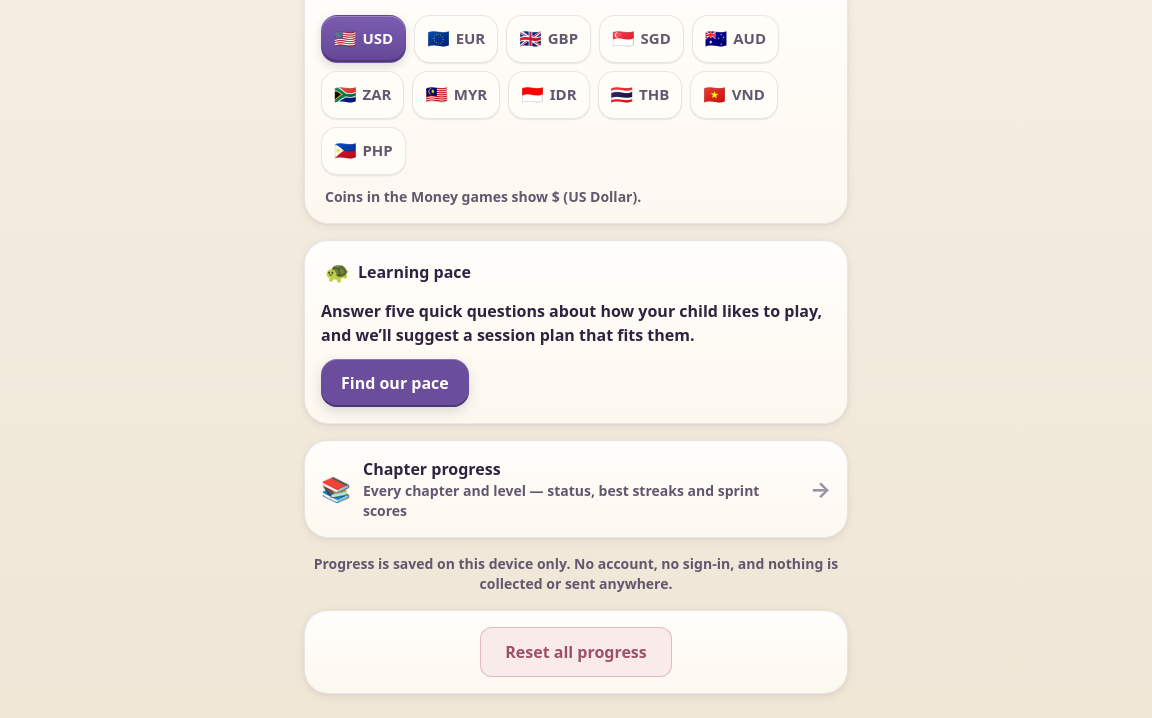
Test case: ParentView › cancel backs out of the gate without resetting
(page scrolled)
What coordinates should you click on to do the following:
click the button "Reset all progress"
I would click on:
 (576, 652)
Its box is top-left (480, 626), bottom-right (672, 676).
(page scrolled)
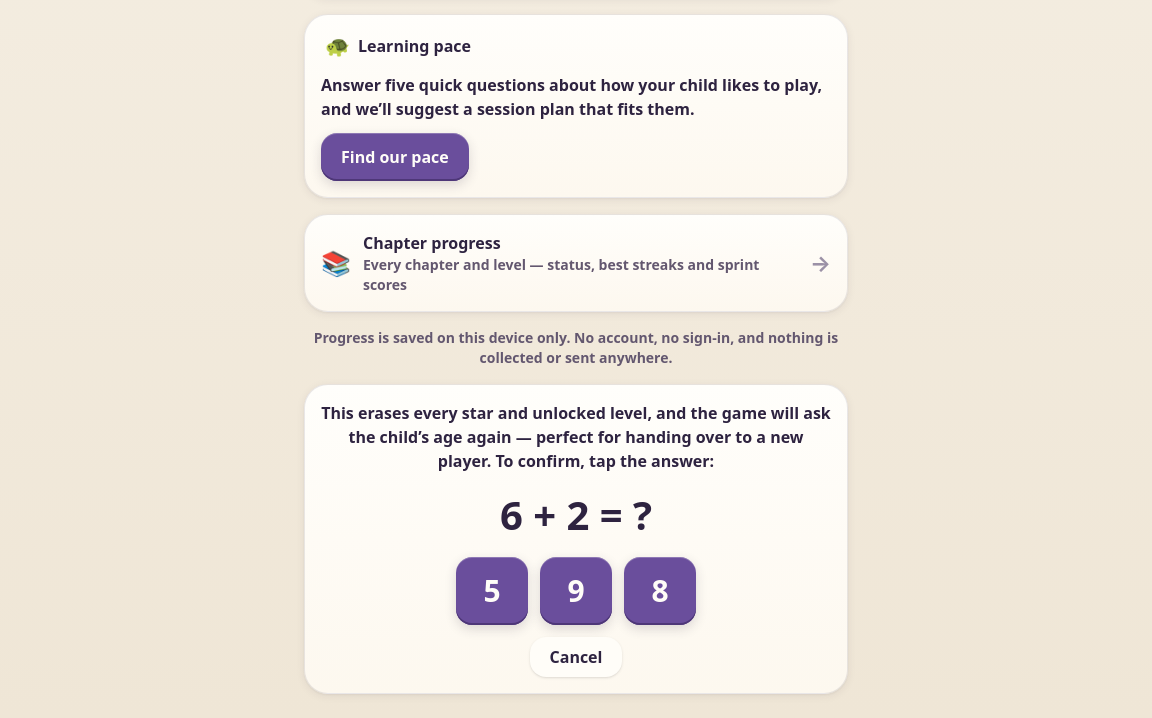
What coordinates should you click on to do the following:
click the button "Cancel"
I would click on:
 (576, 656)
Its box is top-left (530, 636), bottom-right (622, 676).
(page scrolled)
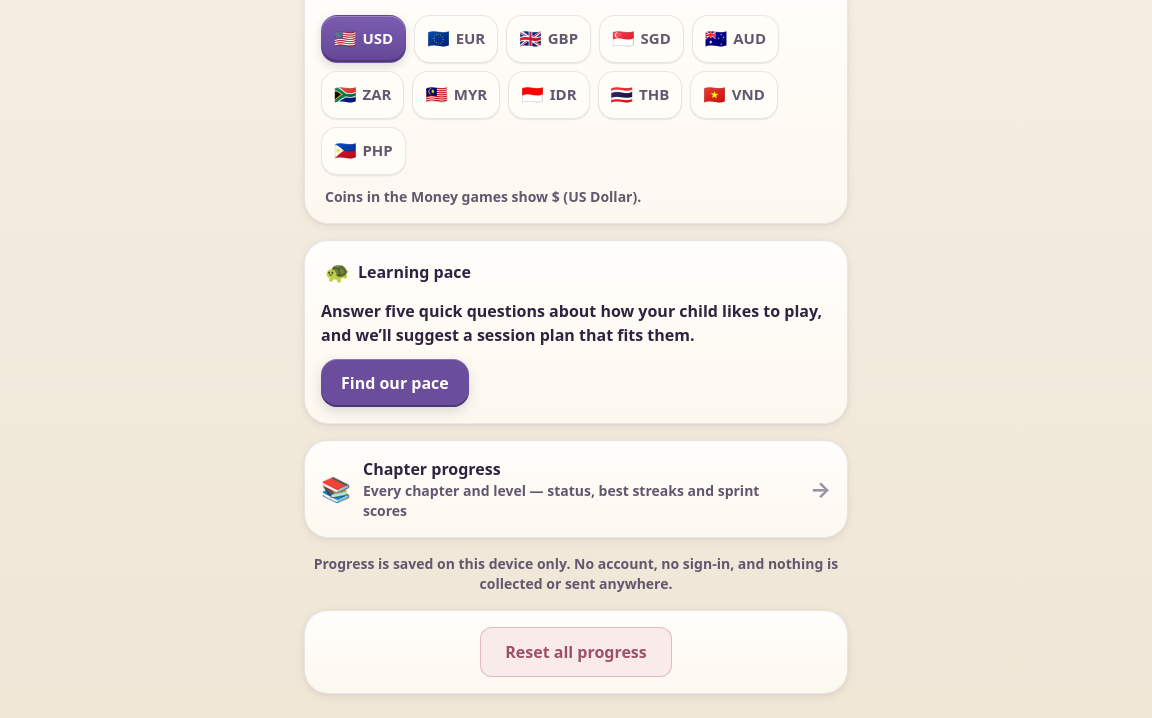
Check: the button "Reset all progress" is shown, box top-left (480, 626), bottom-right (672, 676)
